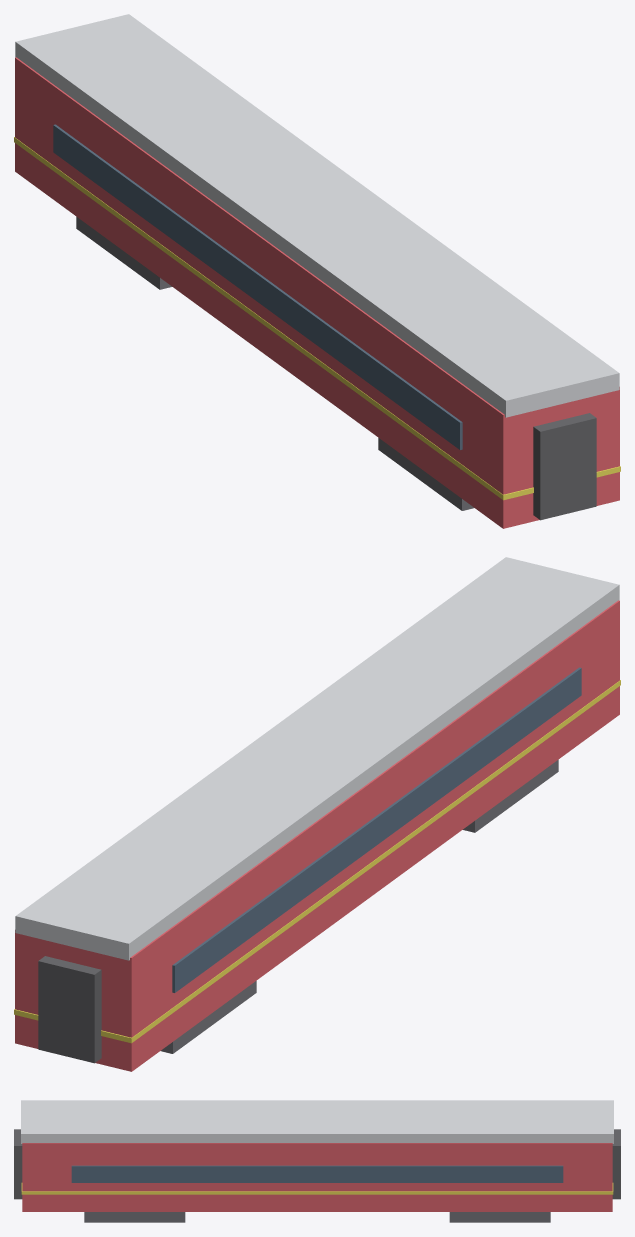
Rendered from AURORA_passenger_coach.glb.
The picture shows the model from 3 angles, top to bottom: view 1: azimuth 30°, elevation 25°; view 2: azimuth 150°, elevation 25°; view 3: azimuth 270°, elevation 25°; orthographic projection. The views are drawn at different scales.
Visible parts, largest first — view 1: RootNode; view 2: RootNode; view 3: RootNode.
Boxes of the visible parts, x1,y1,x2,y2 form: RootNode: (14,14,620,528); RootNode: (14,557,620,1071); RootNode: (14,1100,620,1222).
Size of the model in its own units: 3.02 by 3.58 by 21.6.
